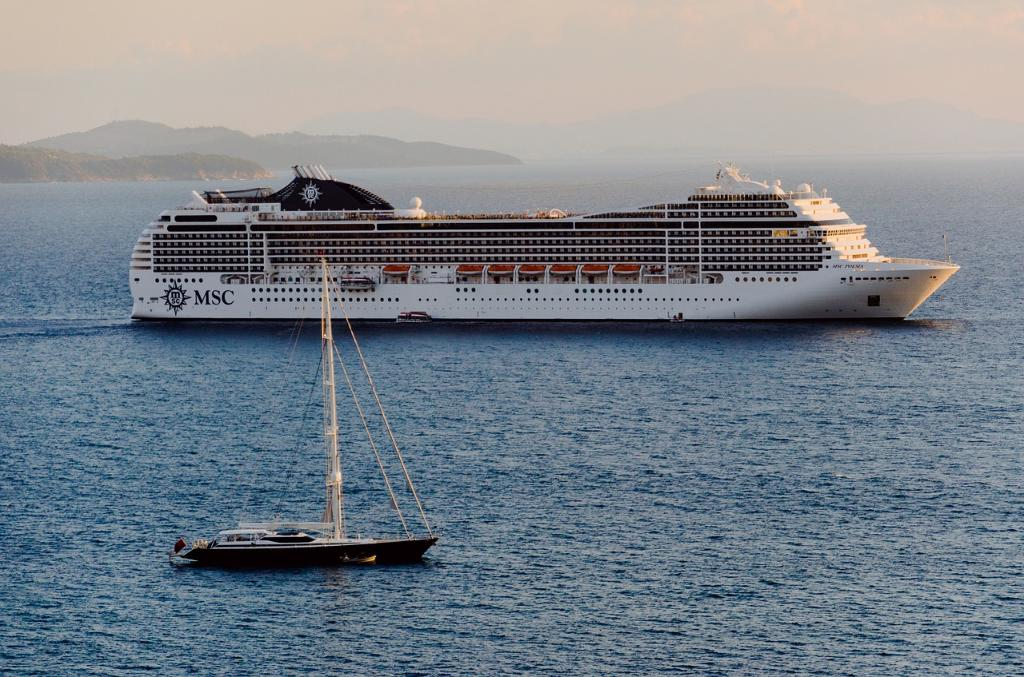PassengerShip: (108, 168, 968, 328)
